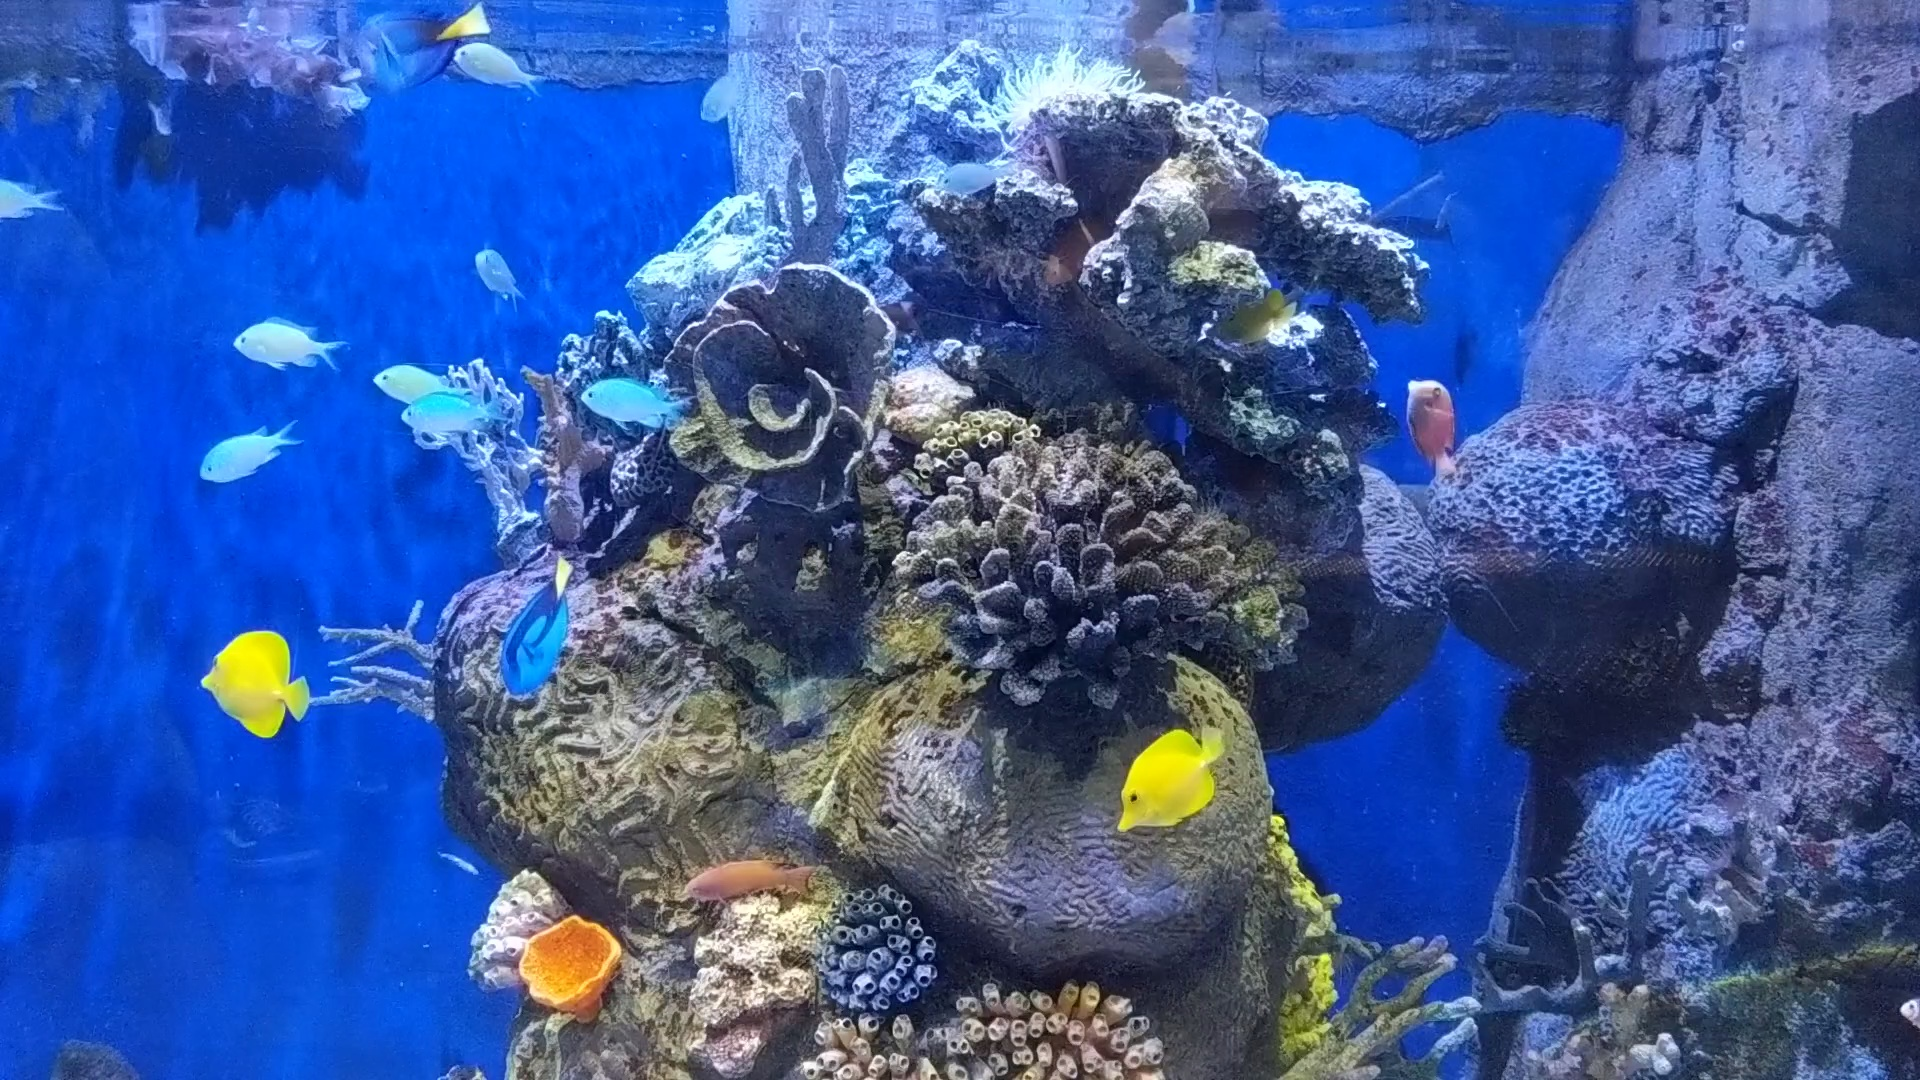blue tang surgeonfish: (480, 554, 597, 708), (342, 1, 500, 80)
damselfish: (572, 364, 694, 440), (224, 306, 340, 376), (196, 415, 295, 487), (450, 37, 546, 107), (402, 384, 498, 452), (927, 141, 1015, 207), (465, 241, 538, 314), (367, 353, 450, 415), (676, 65, 749, 119)
pink fish: (1402, 357, 1478, 491)
saddle butterfly fish: (1081, 712, 1234, 835), (186, 622, 322, 748), (1205, 291, 1298, 345)
